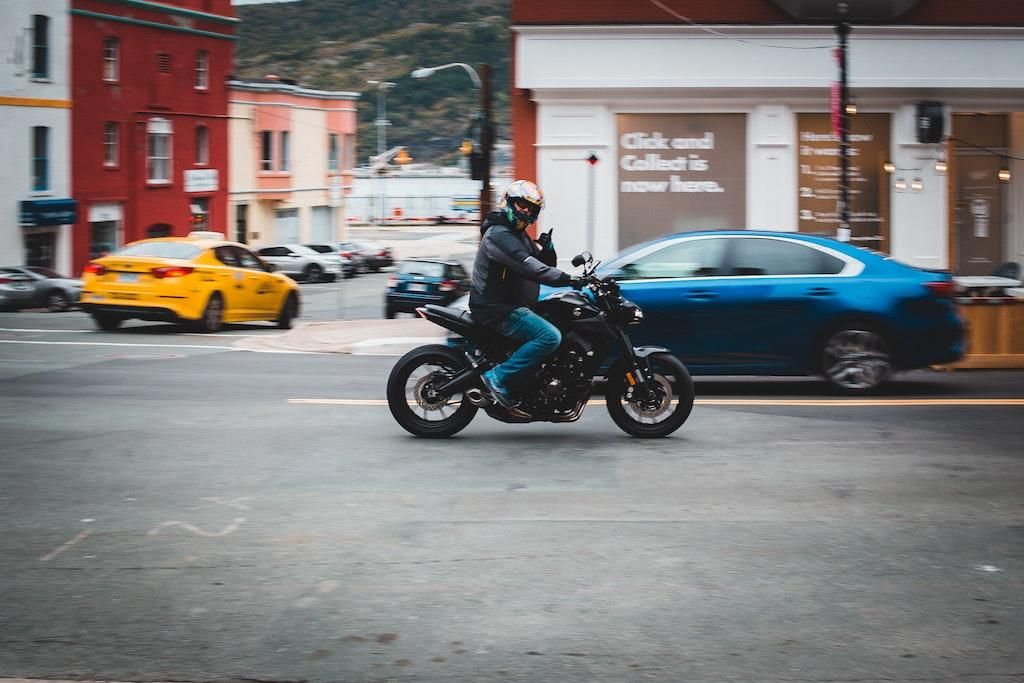helmet: (499, 179, 545, 234)
